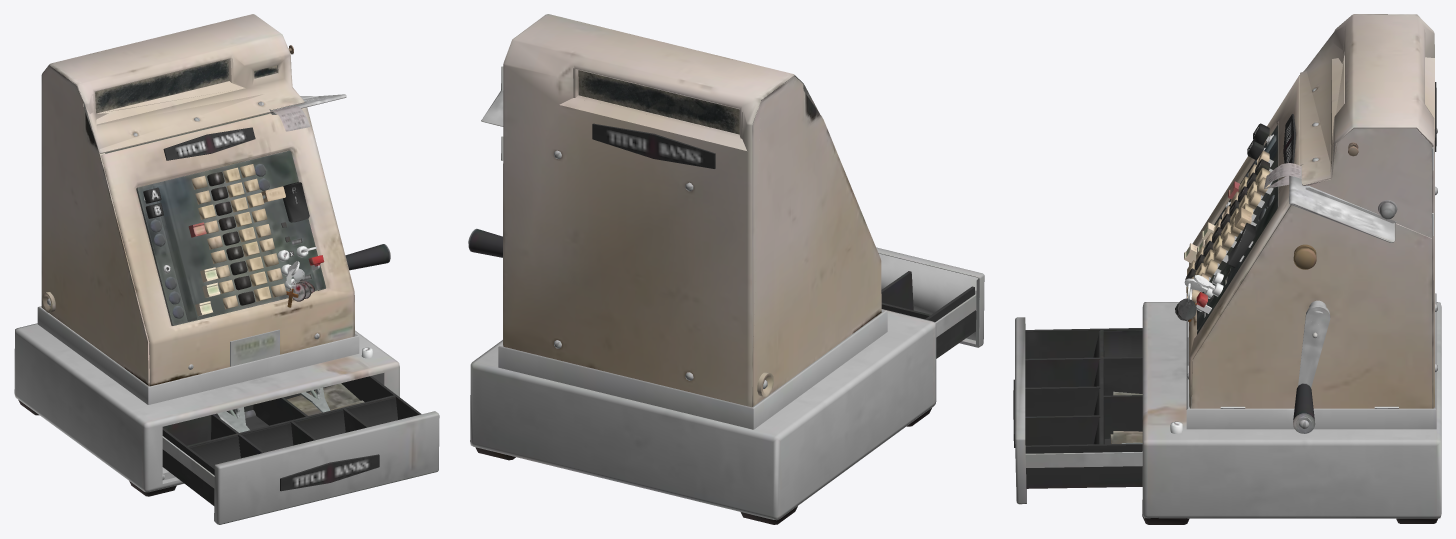
Rendered from CashRegister_01.glb.
3 renders of one model, left to right at view 1: azimuth 30°, elevation 25°; view 2: azimuth 150°, elevation 25°; view 3: azimuth 270°, elevation 25°, orthographic. The views are drawn at different scales.
Visible parts, largest first — view 1: CashRegister_01_body, CashRegister_01_body_lo; view 2: CashRegister_01_body, CashRegister_01_body_lo; view 3: CashRegister_01_body, CashRegister_01_body_lo.
Part boxes in pixels (x1,y1,x2,y2): CashRegister_01_body: (14,14,439,524); CashRegister_01_body_lo: (39,51,421,523); CashRegister_01_body: (468,14,984,524); CashRegister_01_body_lo: (482,68,980,432); CashRegister_01_body: (1013,14,1441,524); CashRegister_01_body_lo: (1013,31,1436,518).
Bounding box in the file's own units: 0.6005 × 0.6212 × 0.6242.
Materials: 2 (2 with a texture image).
